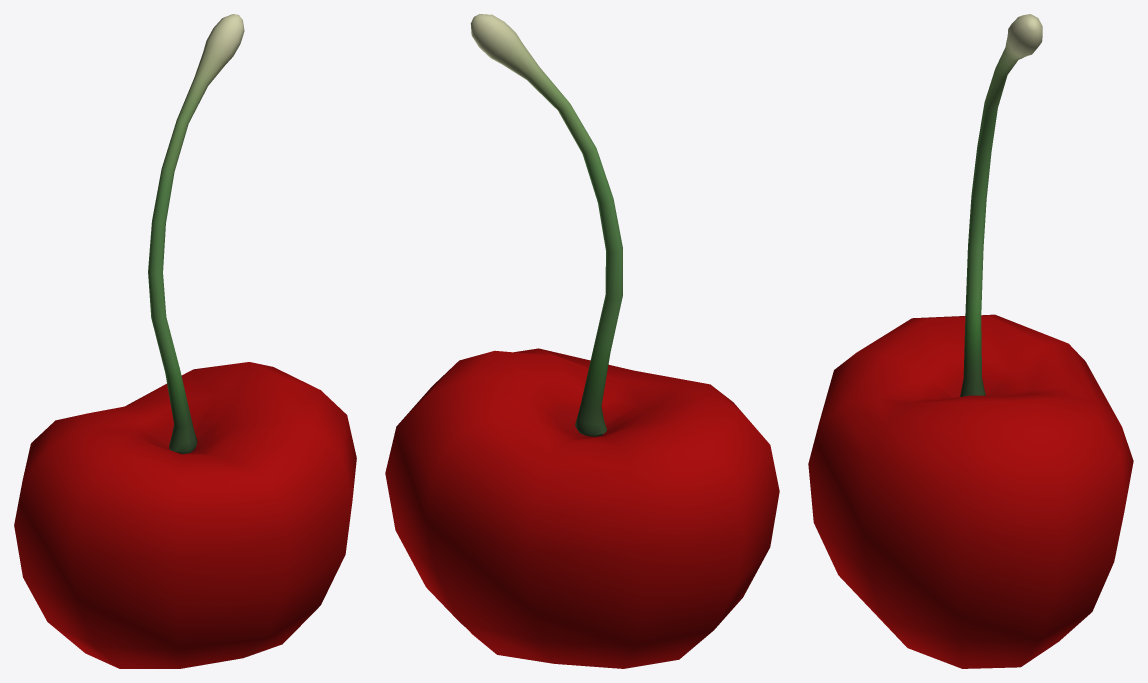
File: cherry2.fbx
3 views of the same model, side by side, from view 1: azimuth 30°, elevation 25°; view 2: azimuth 150°, elevation 25°; view 3: azimuth 270°, elevation 25° (orthographic). The views are drawn at different scales.
Parts seen in each view (by area): view 1: Cherry_2; view 2: Cherry_2; view 3: Cherry_2.
Boxes of the visible parts, x1,y1,x2,y2 form: Cherry_2: [14, 14, 356, 668]; Cherry_2: [385, 14, 779, 668]; Cherry_2: [808, 14, 1133, 668].
Bounding box in the file's own units: 197 × 351 × 158.
